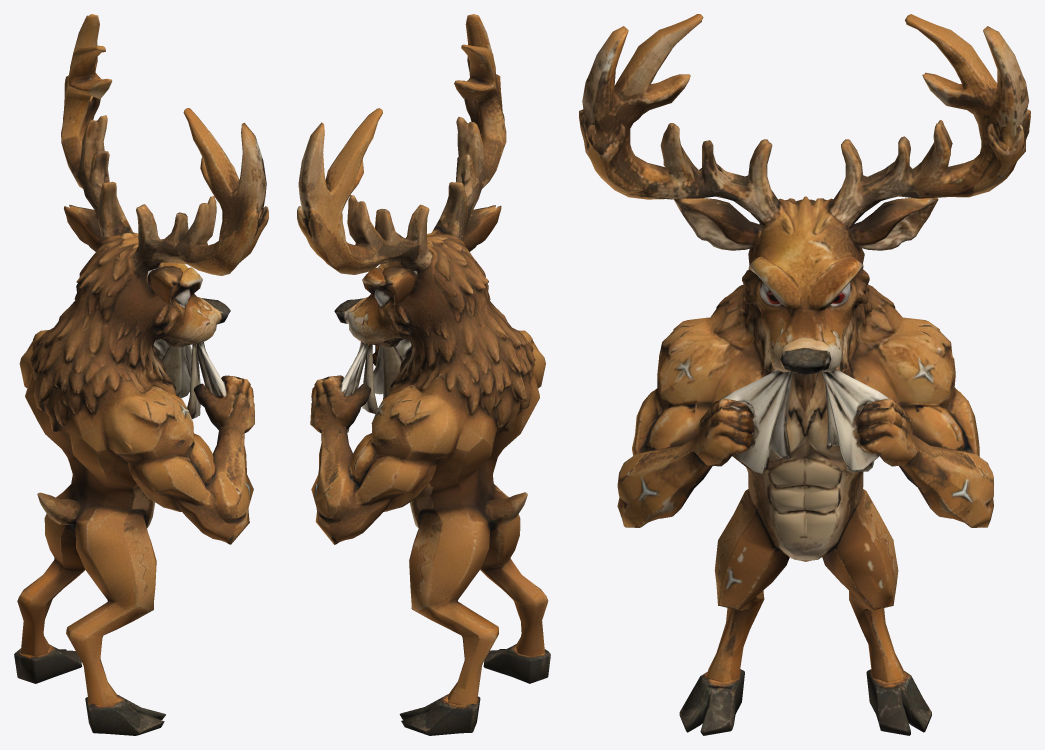
The model's file is boss鹿.glb.
3 renders of one model, left to right at view 1: azimuth 30°, elevation 25°; view 2: azimuth 150°, elevation 25°; view 3: azimuth 270°, elevation 25°, orthographic. The views are drawn at different scales.
Visible parts, largest first — view 1: tripo_node_c3afba31-463d-4985-ae09-f50526a86d1b; view 2: tripo_node_c3afba31-463d-4985-ae09-f50526a86d1b; view 3: tripo_node_c3afba31-463d-4985-ae09-f50526a86d1b.
Boxes of the visible parts, bbox=[...] form: tripo_node_c3afba31-463d-4985-ae09-f50526a86d1b: bbox=[14, 14, 268, 735]; tripo_node_c3afba31-463d-4985-ae09-f50526a86d1b: bbox=[297, 14, 550, 735]; tripo_node_c3afba31-463d-4985-ae09-f50526a86d1b: bbox=[579, 14, 1030, 735].
Size of the model in its own units: 0.3161 by 0.979 by 0.5422.
Materials: 1 (1 with a texture image).
